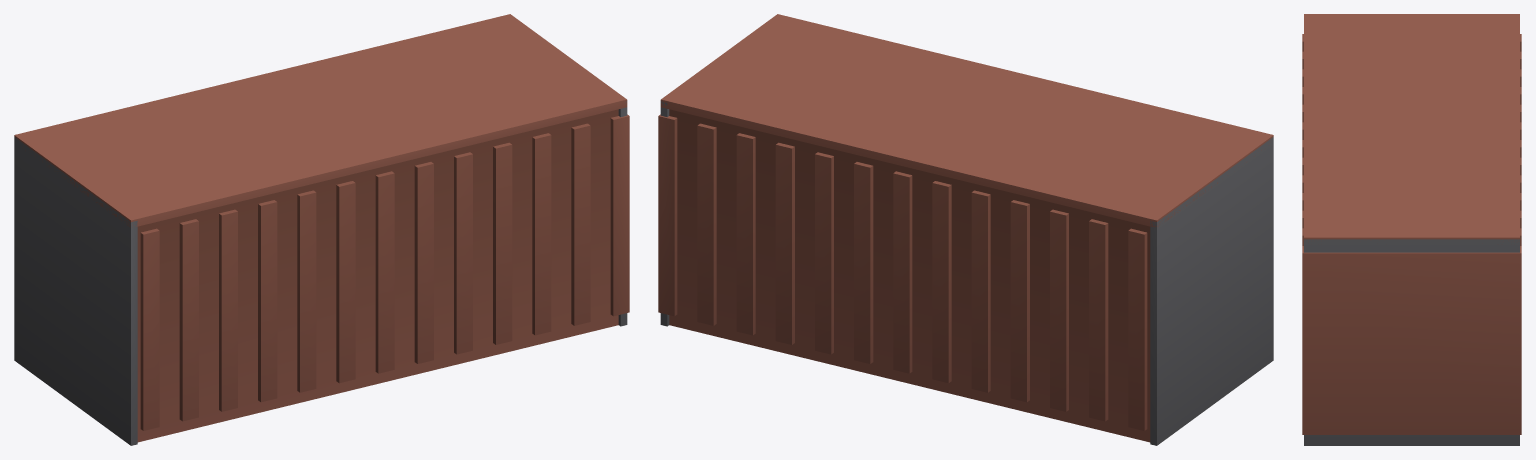
File: box_red.glb
3 renders of one model, left to right at view 1: azimuth 30°, elevation 25°; view 2: azimuth 150°, elevation 25°; view 3: azimuth 270°, elevation 25°, orthographic. The views are drawn at different scales.
Parts seen in each view (by area): view 1: box_red; view 2: box_red; view 3: box_red.
Part boxes in pixels (x1,y1,x2,y2): box_red: [14, 14, 629, 445]; box_red: [658, 14, 1273, 445]; box_red: [1302, 14, 1521, 445].
Size of the model in its own units: 6.1 by 2.64 by 2.52.
